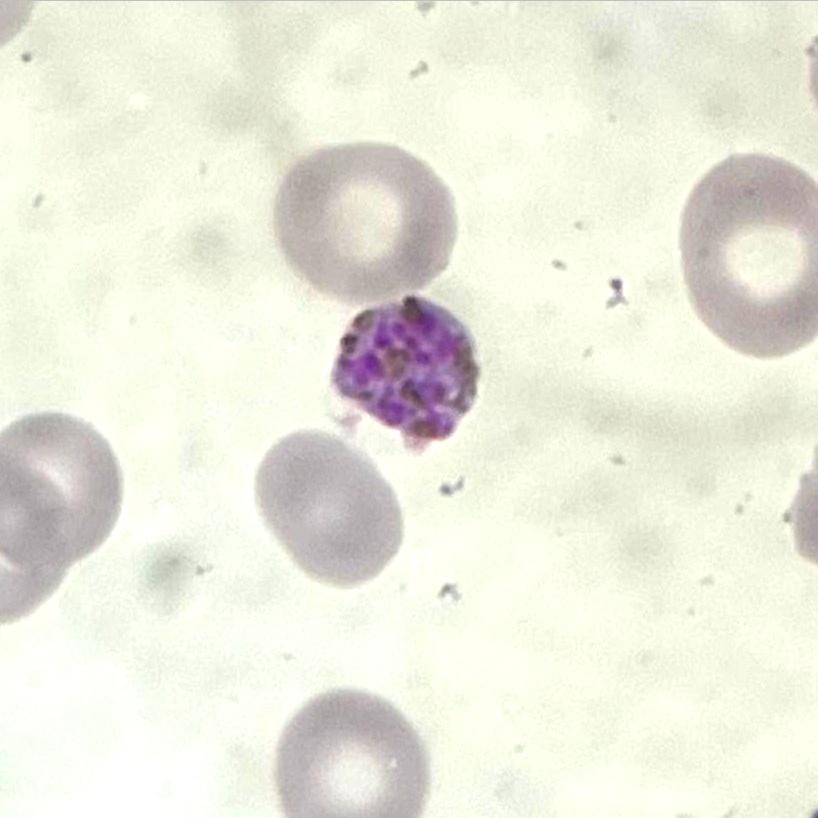Infected: (330, 287, 482, 453)
Uninfected: (272, 134, 456, 310), (685, 151, 818, 360), (252, 427, 409, 594), (275, 684, 427, 818), (2, 407, 126, 563)
